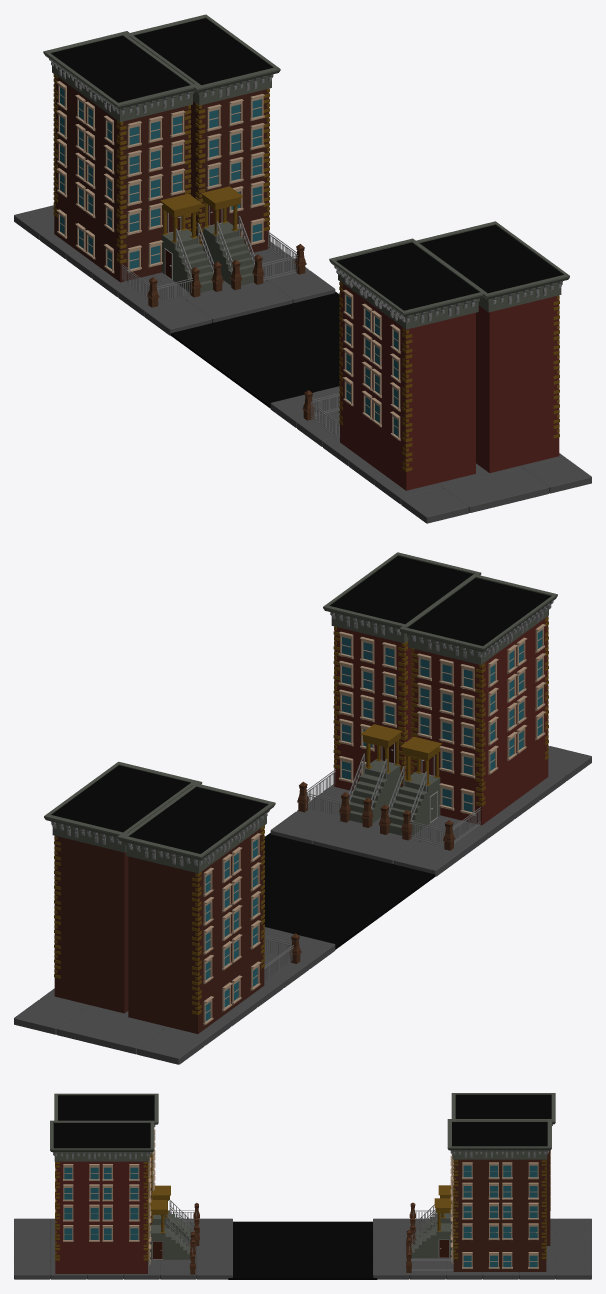
File: BuildingRoads(4).fbx
3 views of the same model, one above another, from view 1: azimuth 30°, elevation 25°; view 2: azimuth 150°, elevation 25°; view 3: azimuth 270°, elevation 25° (orthographic). The views are drawn at different scales.
Parts seen in each view (by area): view 1: Cube.2324; view 2: Cube.2324; view 3: Cube.2324.
Part boxes in pixels (x1,y1,x2,y2): Cube.2324: (14, 14, 591, 523); Cube.2324: (14, 552, 591, 1064); Cube.2324: (14, 1093, 591, 1279).
Size of the model in its own units: 3012 by 3199 by 12745.
